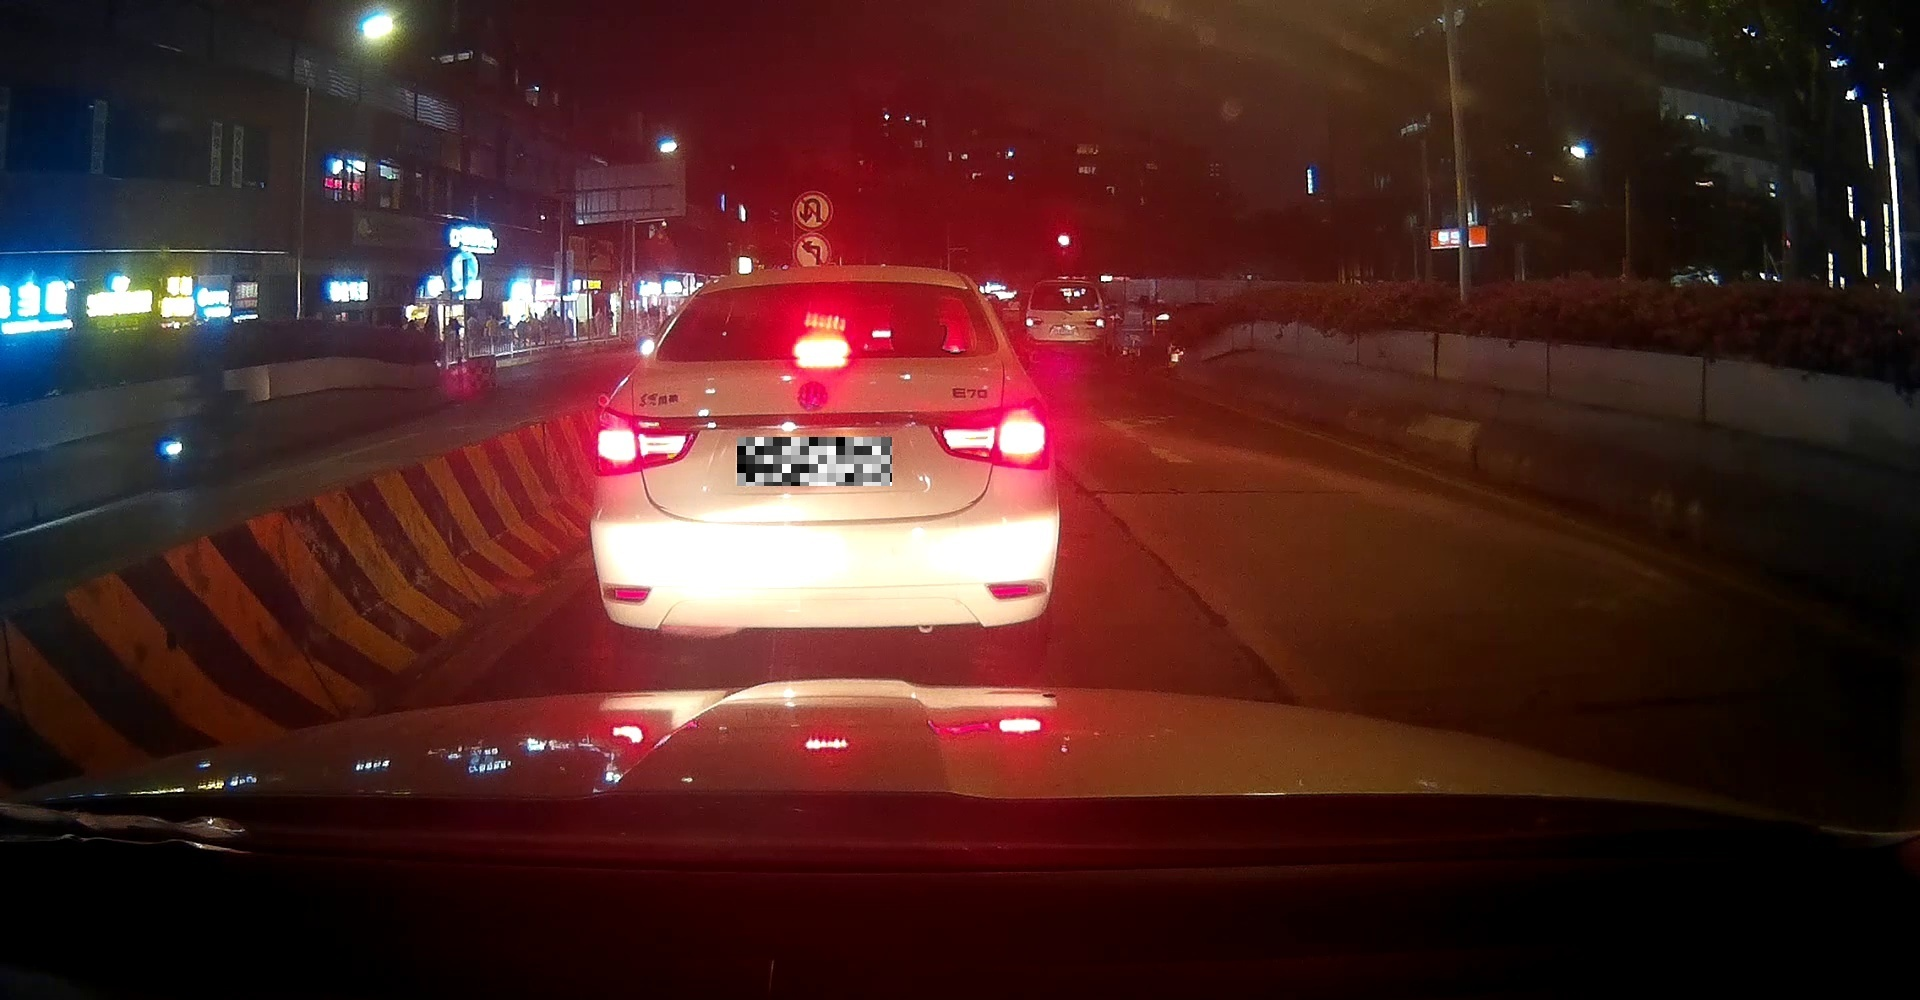L_light: (593, 409, 695, 478)
R_light: (932, 406, 1050, 472)
T_light: (795, 336, 850, 357)
night-brake: (590, 261, 1062, 665)
plate_1: (737, 437, 891, 486)
